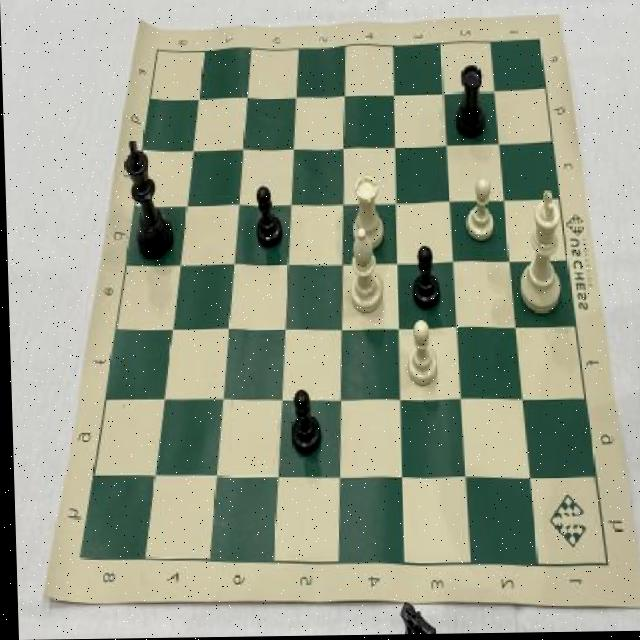black-bishop: (120, 136, 178, 262)
black-knight: (283, 383, 322, 462), (251, 180, 285, 254), (408, 241, 443, 312)
black-queen: (449, 59, 488, 145)
black-rook: (341, 225, 386, 319)
white-bishop: (510, 185, 566, 321)
white-knight: (400, 315, 442, 394), (460, 175, 497, 246)
white-queen: (347, 171, 388, 258)
